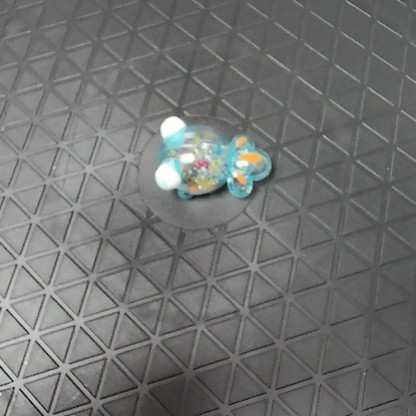bluefish: (151, 110, 272, 205)
